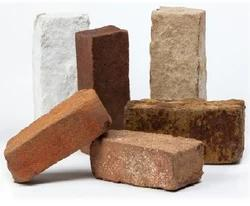Bricks: (4, 90, 112, 184), (125, 99, 245, 165), (90, 130, 205, 192), (32, 12, 90, 120), (75, 25, 130, 130), (150, 6, 207, 100)
